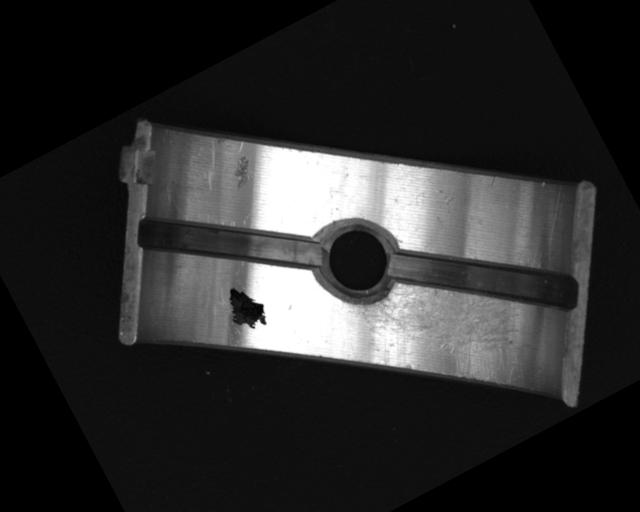blot: (217, 275, 273, 338)
bruise: (223, 153, 260, 192)
gap: (381, 183, 585, 374), (128, 152, 323, 332)
hole: (298, 202, 416, 320)
scratch: (350, 233, 550, 435)
